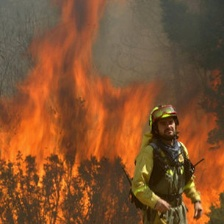fire: (2, 5, 224, 219)
